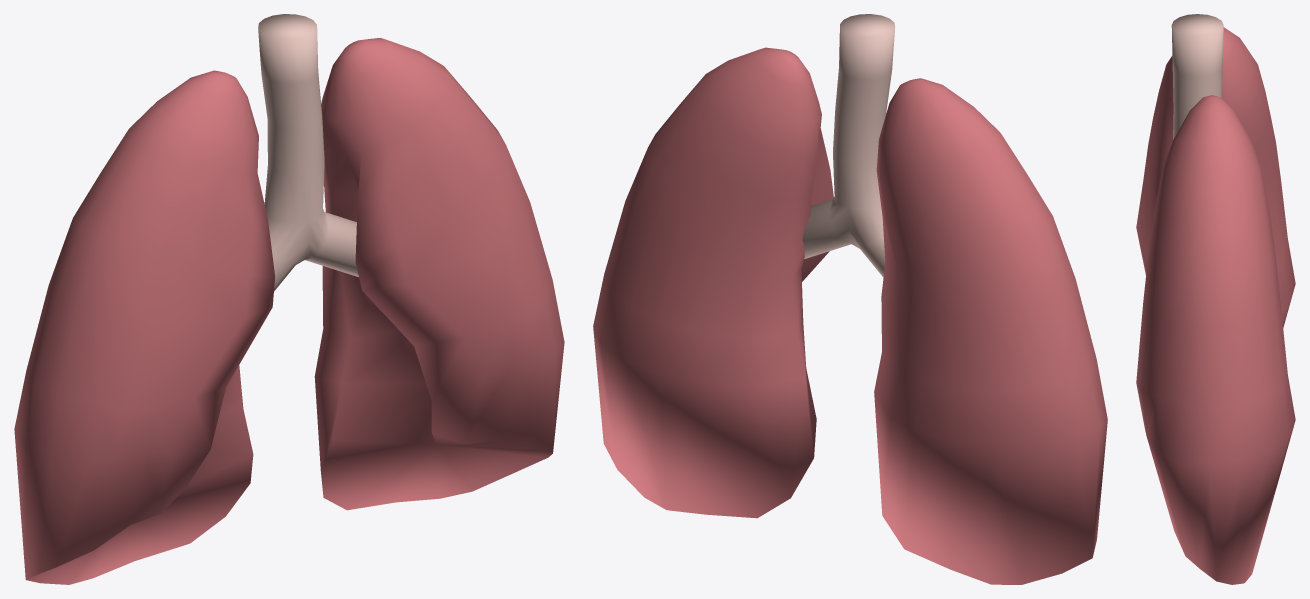
The model's file is Quest_Lungs.glb.
3 renders of one model, left to right at view 1: azimuth 30°, elevation 25°; view 2: azimuth 150°, elevation 25°; view 3: azimuth 270°, elevation 25°, orthographic. The views are drawn at different scales.
Visible parts, largest first — view 1: Lungs_Lung_R, Lungs_Lung_L, Lungs_Trachea; view 2: Lungs_Lung_R, Lungs_Lung_L, Lungs_Trachea; view 3: Lungs_Lung_L, Lungs_Lung_R, Lungs_Trachea.
Boxes of the visible parts, x1,y1,x2,y2 form: Lungs_Lung_R: (14, 70, 274, 584); Lungs_Lung_L: (314, 38, 564, 510); Lungs_Trachea: (258, 14, 358, 291); Lungs_Lung_R: (874, 78, 1107, 584); Lungs_Lung_L: (593, 47, 833, 518); Lungs_Trachea: (802, 14, 895, 277); Lungs_Lung_L: (1136, 95, 1295, 584); Lungs_Lung_R: (1136, 27, 1295, 327); Lungs_Trachea: (1171, 14, 1223, 139).
Size of the model in its own units: 0.4112 by 0.4 by 0.1227.
